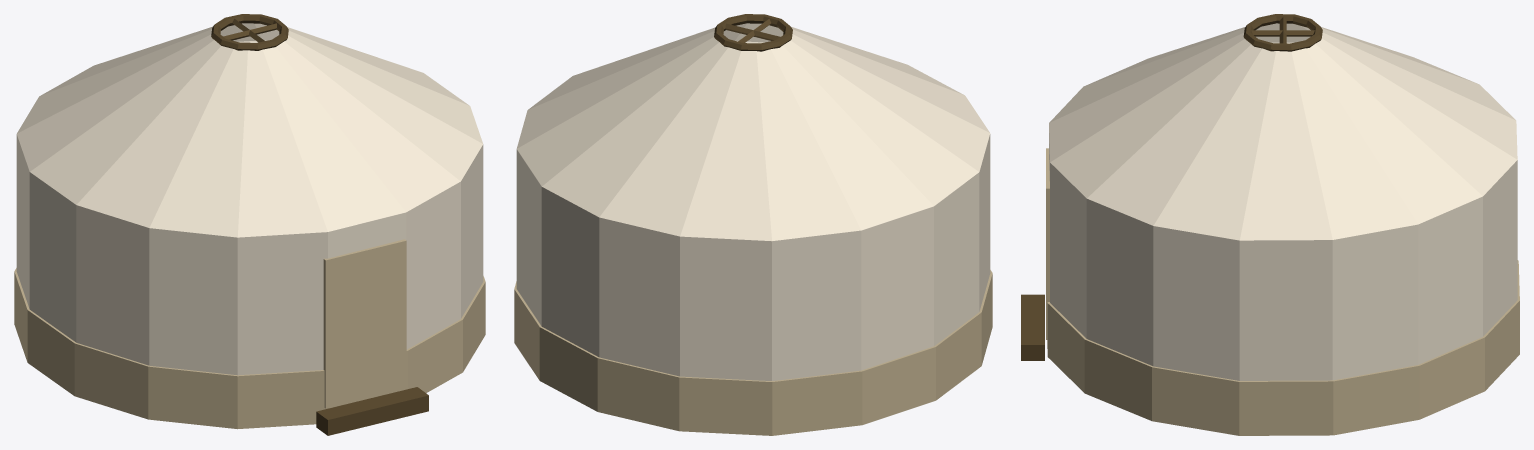
Rendered from Housing_Steppe_01.fbx.
3 renders of one model, left to right at view 1: azimuth 30°, elevation 25°; view 2: azimuth 150°, elevation 25°; view 3: azimuth 270°, elevation 25°, orthographic. The views are drawn at different scales.
Parts seen in each view (by area): view 1: Housing_Steppe_01_Mesh; view 2: Housing_Steppe_01_Mesh; view 3: Housing_Steppe_01_Mesh.
Part boxes in pixels (x1=…): Housing_Steppe_01_Mesh: x1=14, y1=14, x2=485, y2=435; Housing_Steppe_01_Mesh: x1=514, y1=14, x2=992, y2=435; Housing_Steppe_01_Mesh: x1=1021, y1=14, x2=1519, y2=435.
Bounding box in the file's own units: 3.97 × 2.83 × 4.19.
